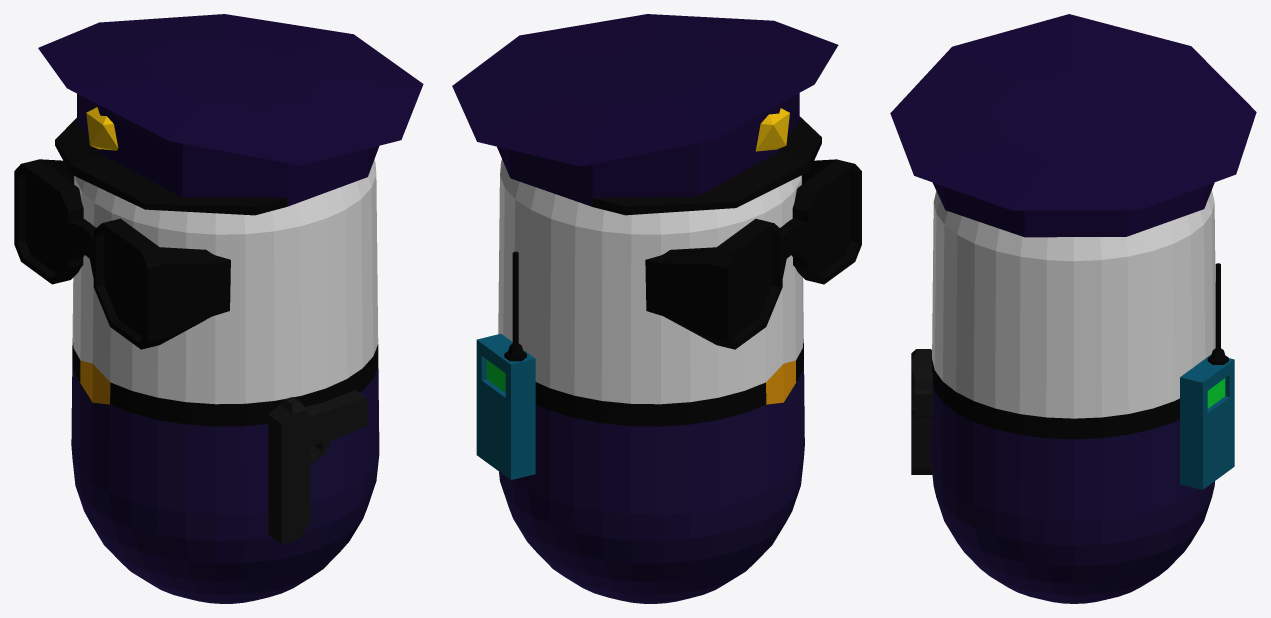
The model's file is Policeman.fbx.
The picture shows the model from 3 angles, left to right: view 1: azimuth 30°, elevation 25°; view 2: azimuth 150°, elevation 25°; view 3: azimuth 270°, elevation 25°; orthographic projection. The views are drawn at different scales.
Parts seen in each view (by area): view 1: Body, Hat, Glasses, Gun; view 2: Body, Hat, Glasses, Radio; view 3: Body, Hat, Radio, Gun.
Part boxes in pixels (<box>): Body: <box>71,159,379,603</box>; Hat: <box>38,14,423,215</box>; Glasses: <box>14,159,230,349</box>; Gun: <box>268,390,367,543</box>; Body: <box>498,159,804,603</box>; Hat: <box>452,14,838,215</box>; Glasses: <box>645,159,861,349</box>; Radio: <box>476,251,535,479</box>; Body: <box>931,190,1215,603</box>; Hat: <box>890,14,1256,237</box>; Radio: <box>1180,263,1234,489</box>; Gun: <box>911,349,932,474</box>.
Size of the model in its own units: 244 by 388 by 256.
